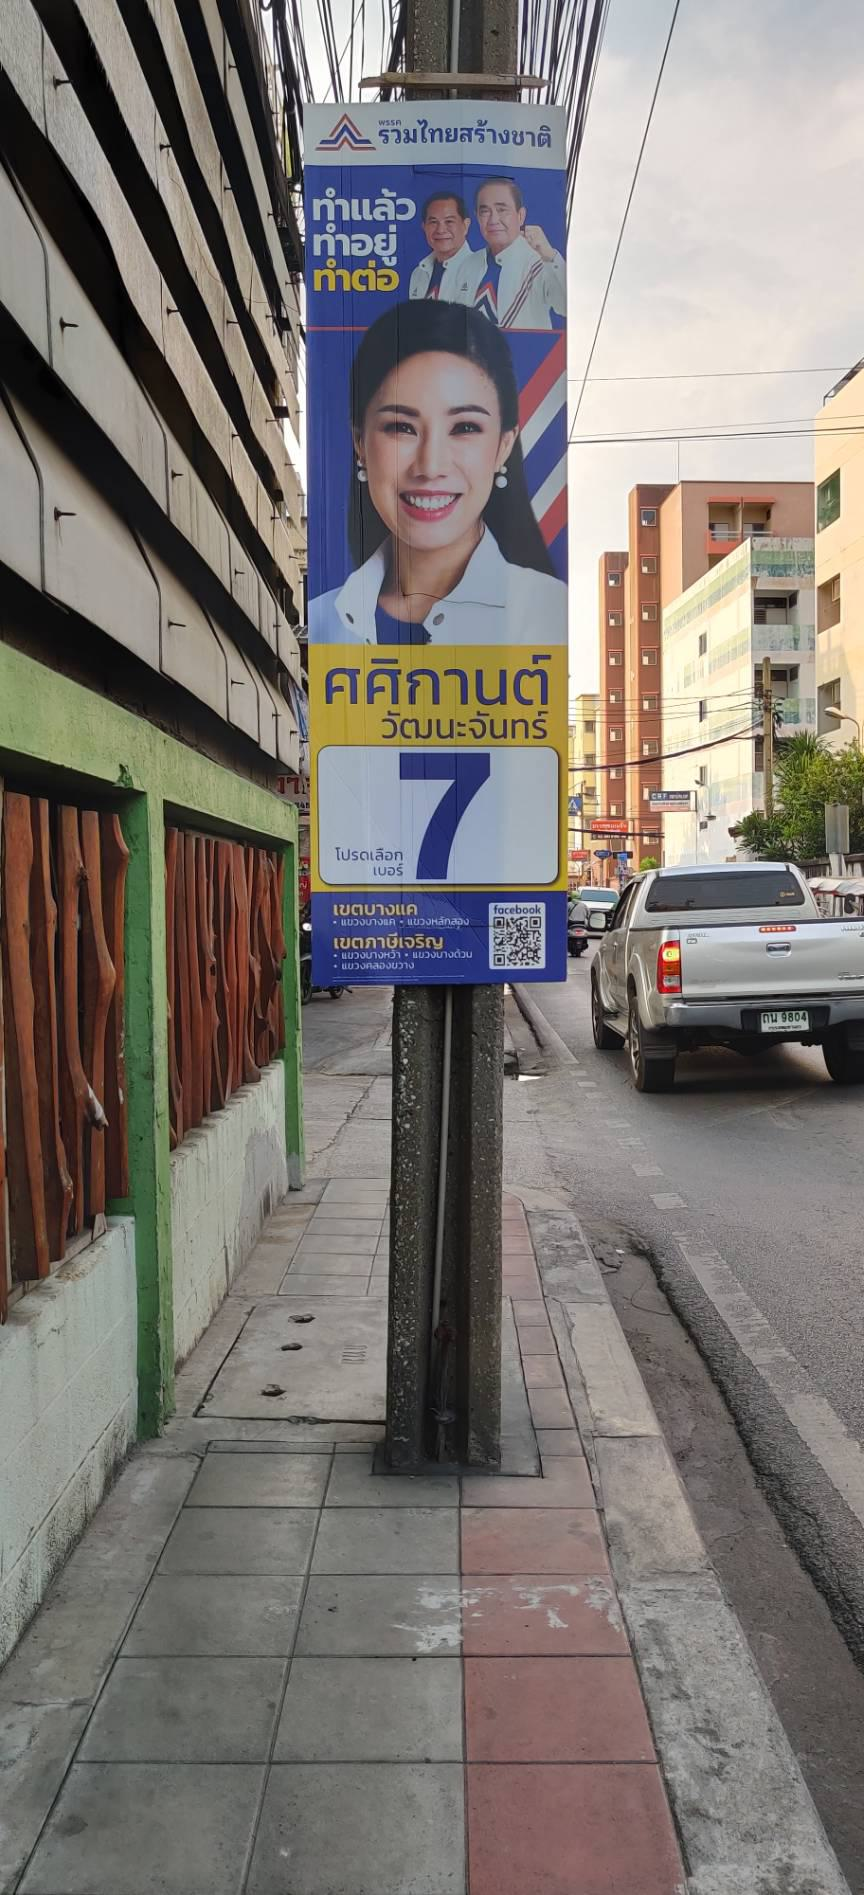Banner: (300, 100, 567, 983)
